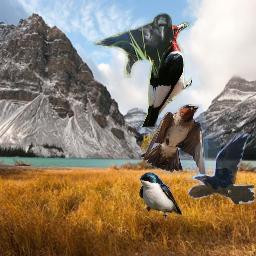Crow: (92, 13, 174, 78), (187, 132, 255, 204)
Swallow: (141, 104, 208, 188), (139, 172, 182, 218)
Woodpecker: (140, 21, 192, 127)
